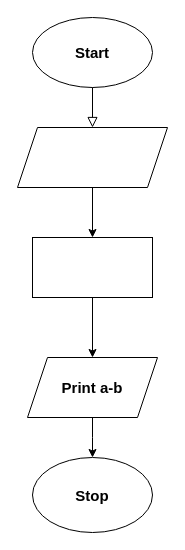
Some shapes in this 185 by 550 pixel diagram are drawn without their labels. The centre of each missing label's shape, as x and y in pixels:
"a-b" goes at [92,267].
"Read values a and b" goes at [92,157].
